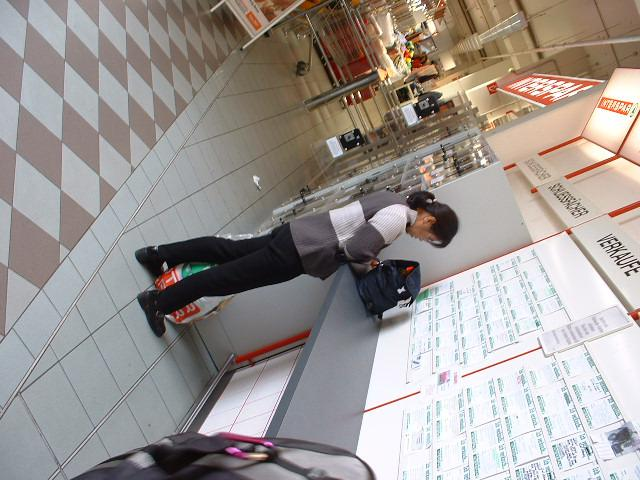Person: (133, 188, 459, 342)
